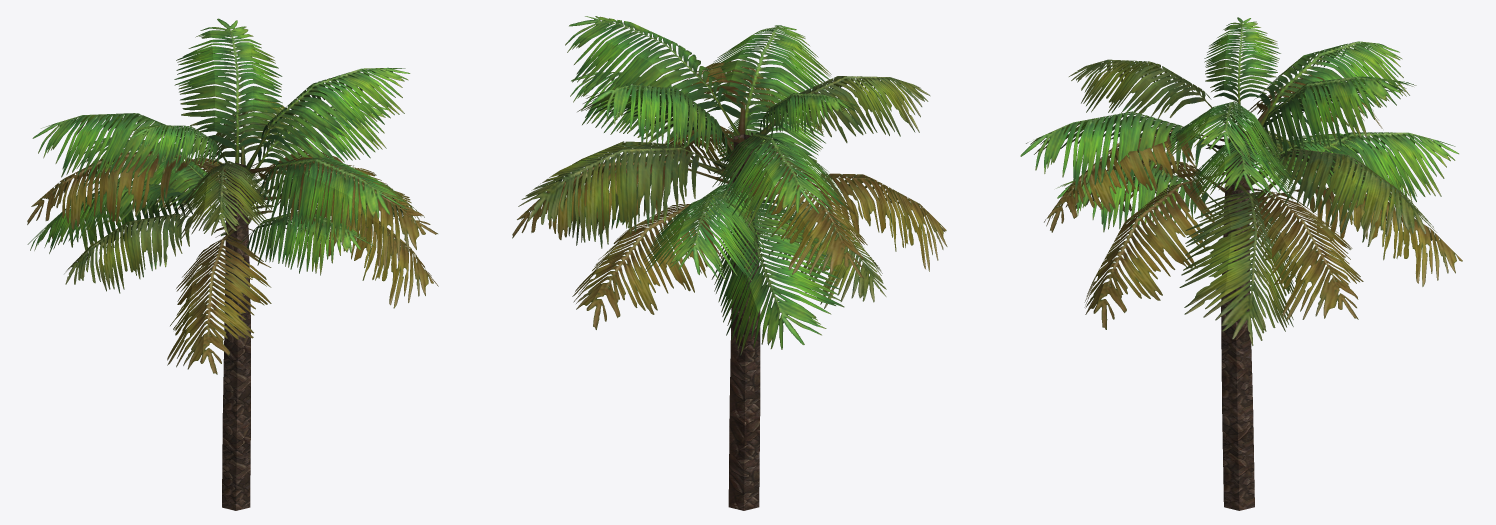
Rendered from a_zhiwu_017.fbx.
The picture shows the model from 3 angles, left to right: view 1: azimuth 30°, elevation 25°; view 2: azimuth 150°, elevation 25°; view 3: azimuth 270°, elevation 25°; orthographic projection. The views are drawn at different scales.
Visible parts, largest first — view 1: a_zhiwu_017; view 2: a_zhiwu_017; view 3: a_zhiwu_017.
Boxes of the visible parts, left/top/right/bottom form: a_zhiwu_017: left=27, top=18, right=438, bottom=510; a_zhiwu_017: left=512, top=16, right=947, bottom=510; a_zhiwu_017: left=1020, top=17, right=1462, bottom=510.
Bounding box in the file's own units: 6.67 × 7.21 × 7.06.
